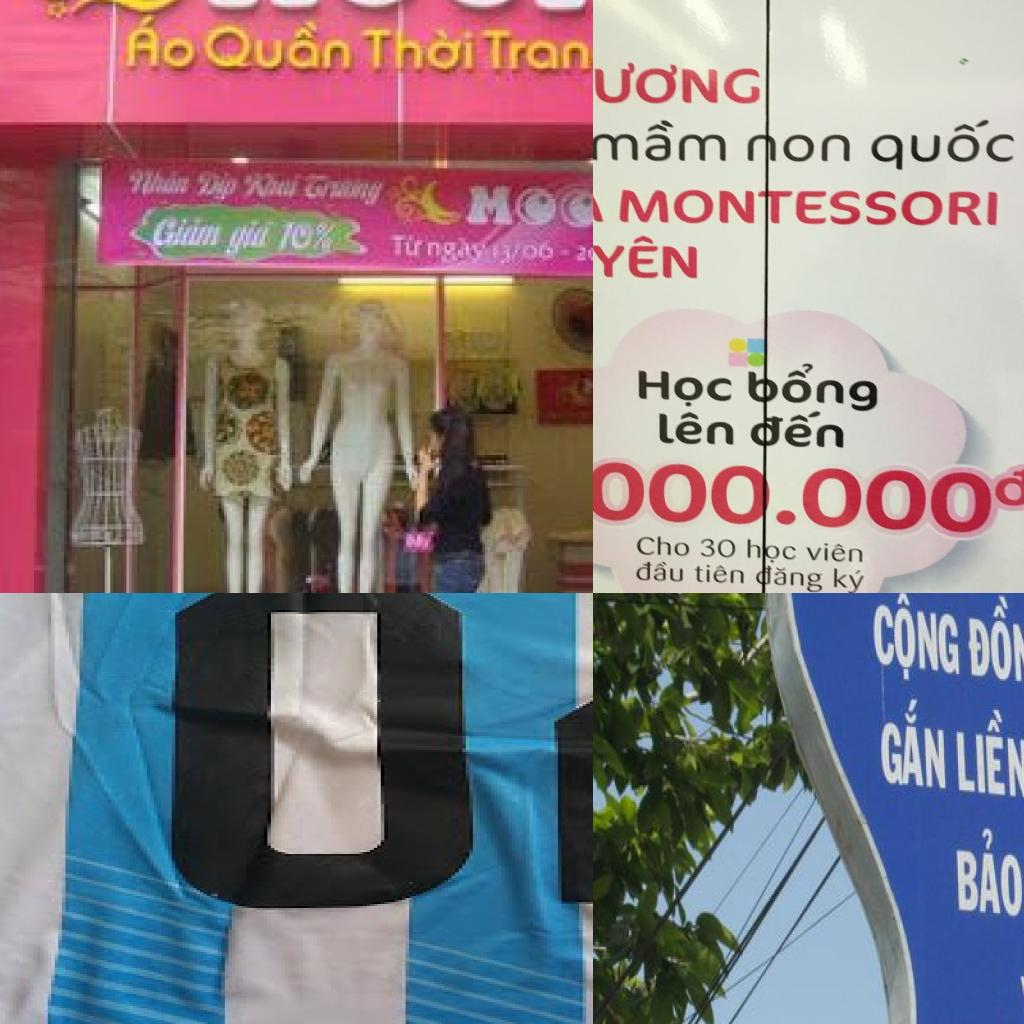text: (168, 593, 476, 912), (593, 459, 996, 538), (619, 186, 1004, 230), (202, 17, 354, 74), (872, 593, 963, 685), (864, 116, 1016, 171), (593, 62, 762, 106), (957, 703, 1024, 807), (880, 693, 949, 793), (953, 822, 1024, 919), (744, 362, 881, 412), (593, 114, 730, 162), (482, 30, 593, 89), (463, 183, 593, 232), (967, 593, 1024, 696), (363, 28, 477, 74), (593, 235, 702, 283), (127, 12, 197, 74), (637, 367, 736, 410), (749, 410, 849, 452), (745, 132, 855, 167), (298, 171, 387, 209), (655, 411, 735, 448), (151, 214, 224, 250), (222, 217, 282, 260), (276, 220, 344, 256), (126, 163, 194, 197), (244, 168, 308, 202), (753, 564, 824, 593), (428, 238, 490, 266), (490, 243, 556, 268), (803, 539, 867, 564), (197, 168, 241, 204), (633, 534, 693, 559), (743, 538, 798, 565), (995, 462, 1024, 507), (827, 565, 873, 593), (387, 232, 428, 260), (634, 561, 686, 583), (692, 563, 744, 585), (699, 538, 738, 559), (1014, 969, 1024, 1024)
